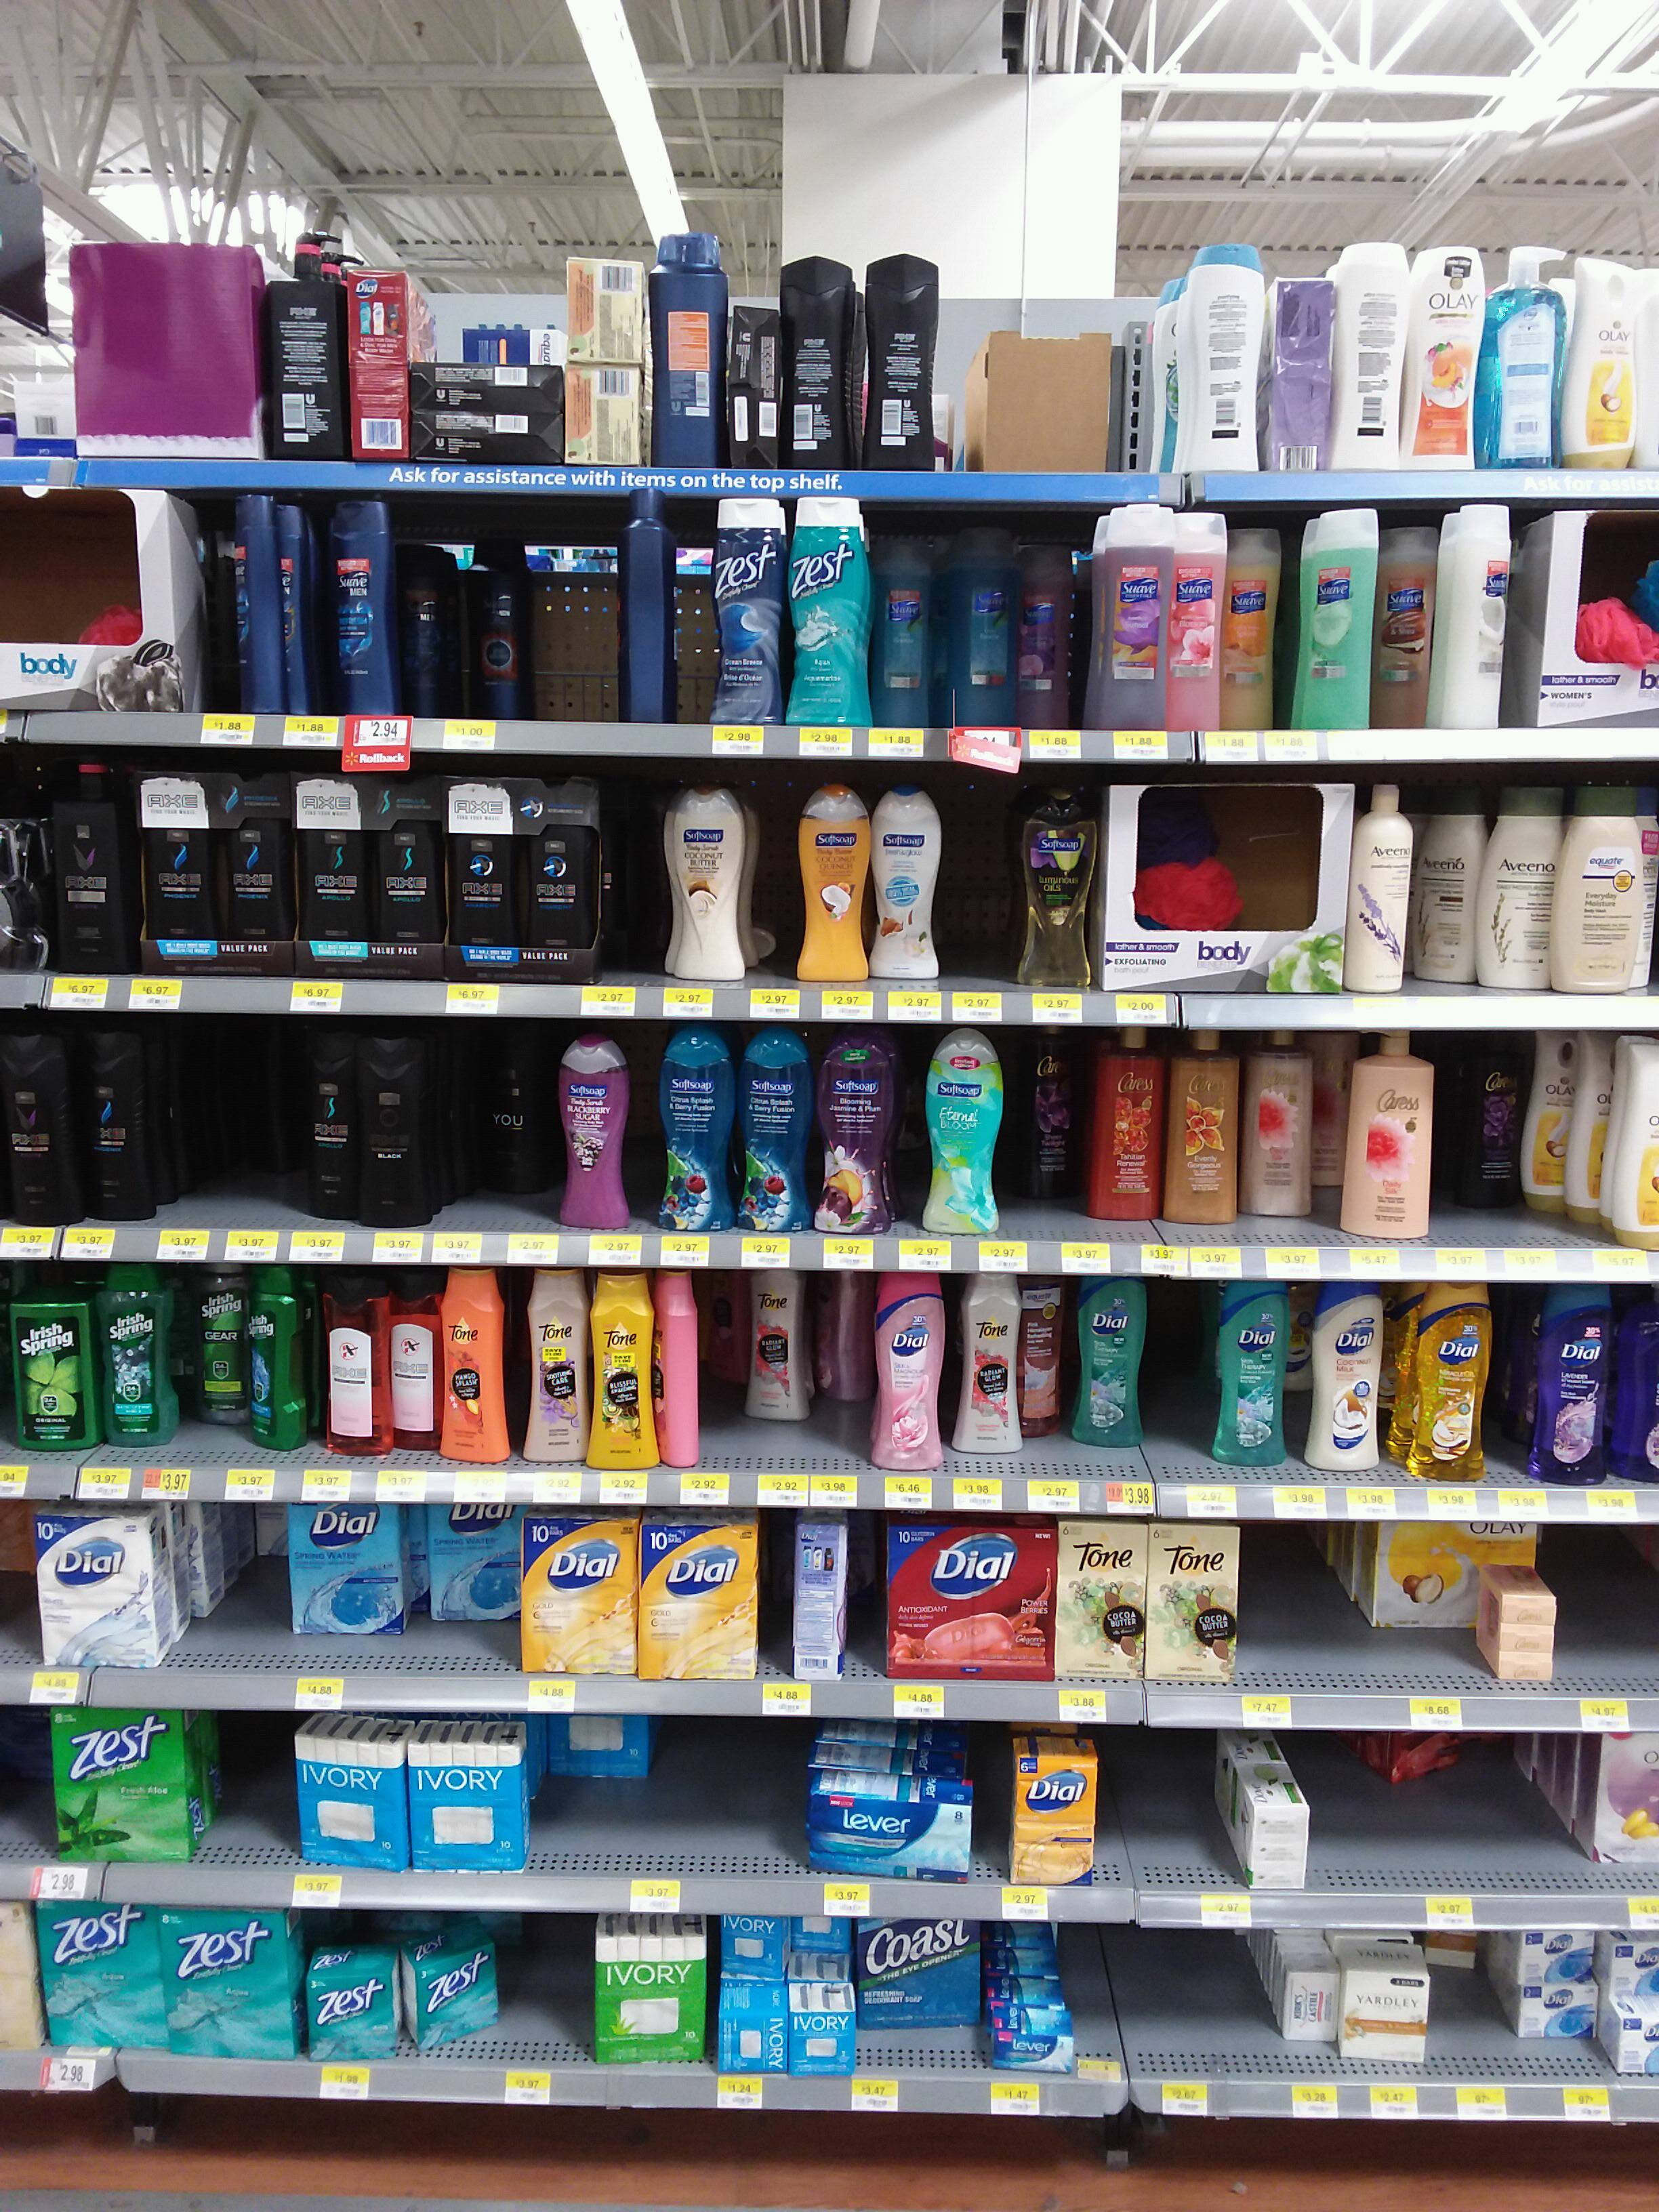product: (1094, 775, 1345, 991), (58, 240, 246, 465), (0, 486, 178, 709), (1541, 491, 1659, 732), (884, 1531, 1053, 1679), (1290, 495, 1382, 740), (155, 1904, 300, 2060), (1295, 1275, 1406, 1477), (51, 1703, 186, 1867), (52, 751, 148, 979), (1340, 1029, 1438, 1244), (784, 493, 873, 726), (261, 232, 350, 456), (1481, 247, 1570, 472), (1237, 1029, 1338, 1224), (1183, 239, 1269, 469), (1427, 498, 1509, 737), (1405, 1275, 1499, 1482), (1563, 786, 1656, 995), (33, 1521, 159, 1674), (1473, 784, 1561, 1000), (284, 1503, 423, 1639), (547, 1024, 641, 1224), (988, 324, 1112, 475), (662, 773, 751, 984), (782, 253, 864, 479), (706, 491, 784, 726), (1331, 240, 1410, 474), (861, 1268, 950, 1474), (802, 1031, 890, 1237), (647, 1024, 732, 1237), (1101, 496, 1175, 738), (525, 1527, 640, 1679), (643, 1527, 758, 1679), (42, 1902, 153, 2055), (1211, 1270, 1295, 1474), (207, 489, 281, 719), (653, 221, 721, 469), (439, 1263, 519, 1472), (411, 1735, 530, 1876), (1016, 777, 1093, 995), (866, 251, 941, 472), (92, 1264, 186, 1440), (868, 775, 946, 986), (329, 496, 403, 719), (1535, 1275, 1612, 1487), (1054, 1517, 1154, 1681), (791, 775, 864, 996), (240, 1259, 319, 1463), (406, 361, 568, 458), (2, 1021, 78, 1224), (1412, 240, 1478, 475), (1570, 246, 1640, 469), (291, 782, 371, 975), (295, 1733, 408, 1869), (1084, 1026, 1164, 1216), (814, 1789, 967, 1886), (10, 1263, 91, 1449), (218, 775, 293, 974), (1072, 1266, 1147, 1463), (448, 782, 523, 975), (587, 1264, 655, 1477), (598, 1930, 708, 2060), (78, 1019, 148, 1224), (1152, 1517, 1234, 1691), (945, 524, 1014, 728), (1164, 1026, 1236, 1224), (357, 1029, 430, 1223), (281, 1029, 355, 1217), (375, 782, 448, 974), (519, 1261, 586, 1472), (617, 486, 676, 719), (735, 1031, 803, 1233), (1347, 787, 1413, 995), (523, 782, 594, 974), (146, 777, 214, 977), (319, 1268, 389, 1463), (1227, 502, 1284, 733), (927, 1035, 992, 1237), (863, 1916, 979, 2026), (1009, 1747, 1100, 1886), (1175, 503, 1229, 735), (427, 1503, 528, 1623), (1415, 789, 1473, 1000), (951, 1268, 1018, 1451), (655, 1263, 713, 1472), (880, 538, 943, 730), (732, 1273, 814, 1420), (469, 528, 530, 721), (1274, 266, 1330, 472), (1016, 523, 1070, 733), (1382, 496, 1427, 738), (281, 496, 329, 719), (471, 1028, 533, 1190), (723, 294, 779, 475), (1019, 1264, 1072, 1449), (390, 1268, 437, 1467), (354, 263, 406, 441), (416, 1944, 505, 2045), (307, 1963, 397, 2060), (789, 1510, 842, 1679), (193, 1259, 240, 1444), (1340, 1966, 1424, 2069), (568, 362, 650, 465), (568, 254, 645, 362), (1520, 1984, 1601, 2045), (788, 2006, 859, 2074), (1520, 1930, 1600, 1984), (723, 2008, 784, 2074), (1288, 1968, 1337, 2045), (1000, 2026, 1073, 2074), (1244, 1858, 1312, 1893), (1241, 1831, 1316, 1858), (1251, 1801, 1317, 1831), (1500, 1653, 1556, 1683), (1500, 1623, 1556, 1651), (1500, 1594, 1556, 1622)
